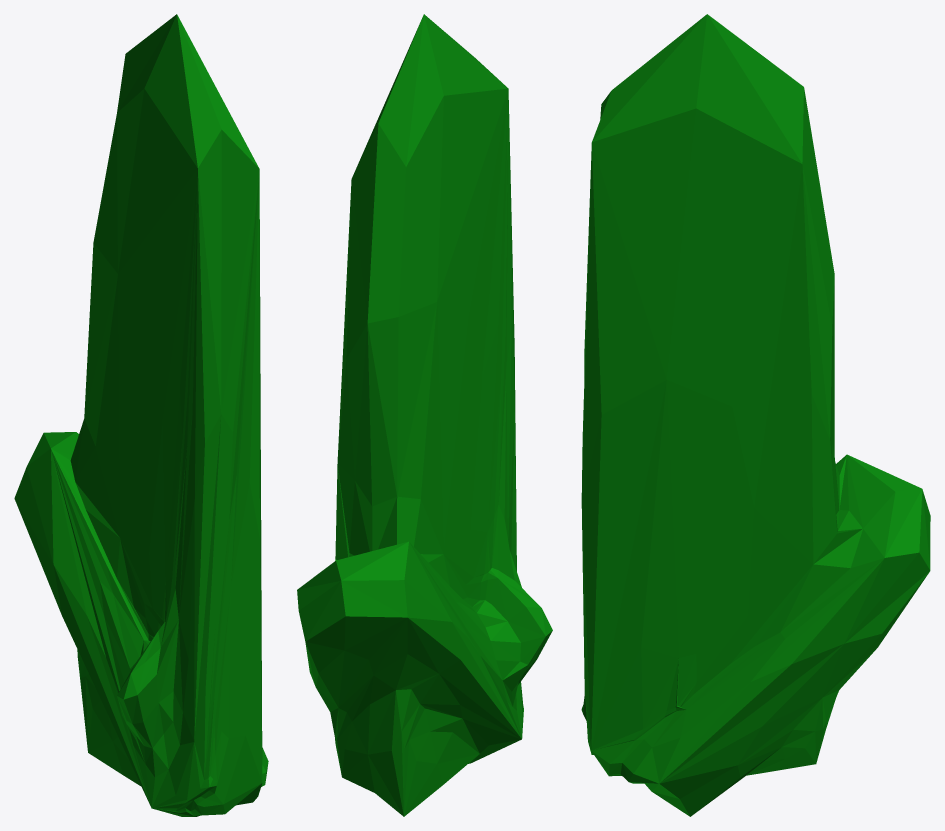
The picture shows the model from 3 angles, left to right: view 1: azimuth 30°, elevation 25°; view 2: azimuth 150°, elevation 25°; view 3: azimuth 270°, elevation 25°; orthographic projection.
Visible parts, largest first — view 1: 436_Cube.1770; view 2: 436_Cube.1770; view 3: 436_Cube.1770.
Boxes of the visible parts, left/top/right/bottom form: 436_Cube.1770: left=14, top=14, right=268, bottom=816; 436_Cube.1770: left=297, top=14, right=552, bottom=816; 436_Cube.1770: left=581, top=14, right=930, bottom=816.
Size of the model in its own units: 2.65 by 12.61 by 5.07.
